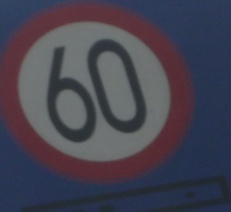Speed limit: (10, 25, 178, 162)
